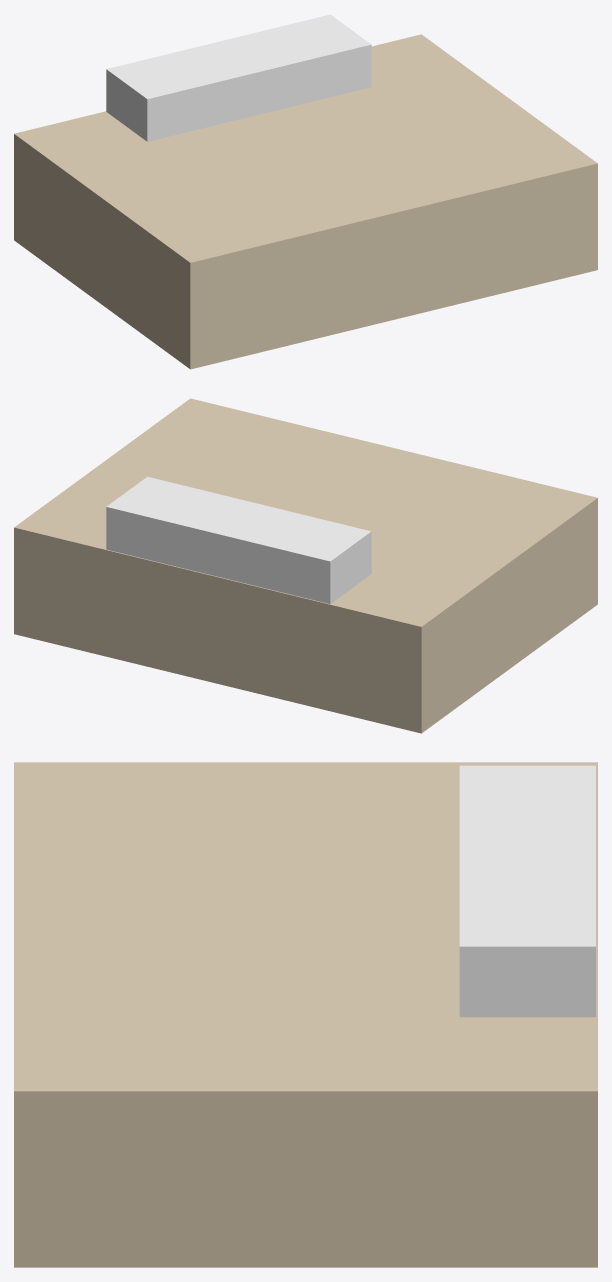
The model's file is bed.glb.
The picture shows the model from 3 angles, top to bottom: view 1: azimuth 30°, elevation 25°; view 2: azimuth 150°, elevation 25°; view 3: azimuth 270°, elevation 25°; orthographic projection. The views are drawn at different scales.
Visible parts, largest first — view 1: mesh_0, mesh_1; view 2: mesh_0, mesh_1; view 3: mesh_0, mesh_1.
Part boxes in pixels (bbox=[...]): mesh_0: bbox=[14, 34, 597, 369]; mesh_1: bbox=[106, 14, 371, 141]; mesh_0: bbox=[14, 398, 597, 733]; mesh_1: bbox=[106, 476, 371, 603]; mesh_0: bbox=[14, 762, 597, 1267]; mesh_1: bbox=[459, 765, 595, 1017].
Bounding box in the file's own units: 2 × 0.7 × 1.5.
